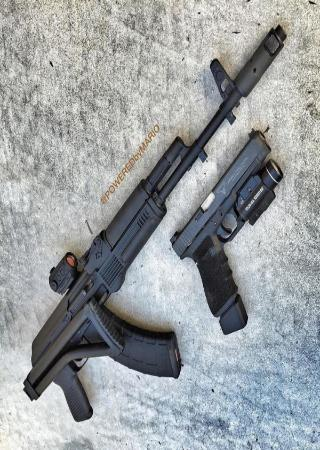weapon: (22, 25, 287, 423), (171, 129, 284, 336)
